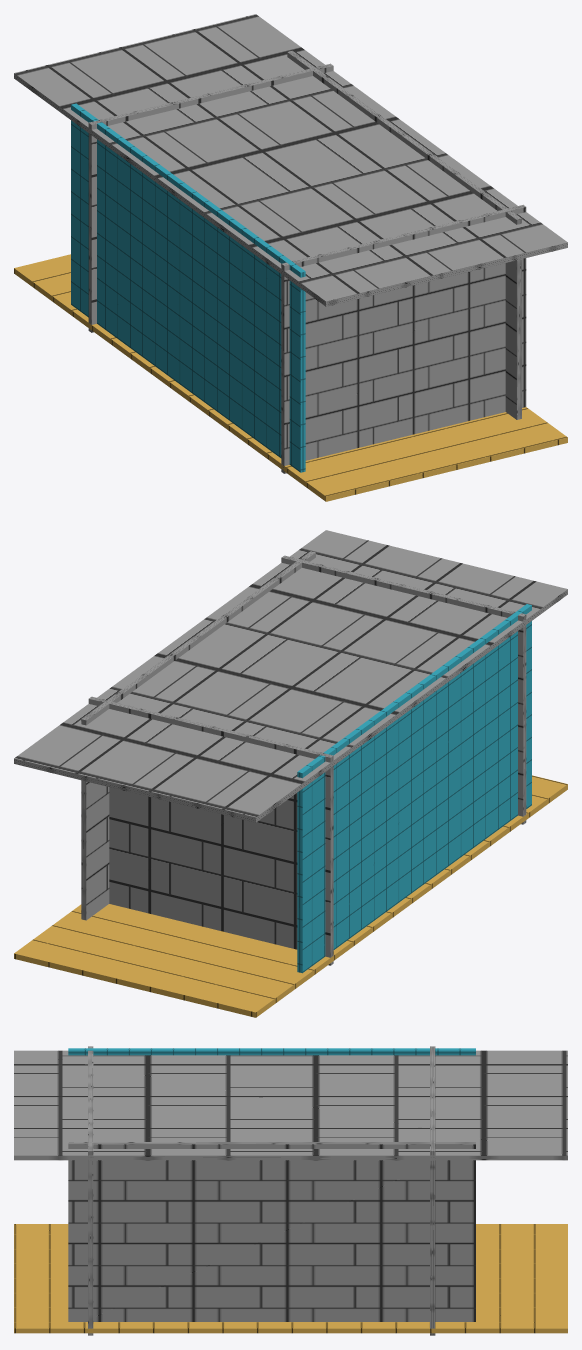
3 renders of one model, top to bottom at view 1: azimuth 30°, elevation 25°; view 2: azimuth 150°, elevation 25°; view 3: azimuth 270°, elevation 25°, orthographic. The views are drawn at different scales.
Visible parts, largest first — view 1: 立方体.009, 立方体.008, 立方体.006, 立方体.005, 立方体.010, 立方体.007; view 2: 立方体.009, 立方体.008, 立方体.007, 立方体.005, 立方体.010, 立方体.006; view 3: 立方体.010, 立方体.009, 立方体.005, 立方体.008, 立方体.007, 立方体.006.
Boxes of the visible parts, left/top/right/bottom form: 立方体.009: left=14, top=14, right=567, bottom=306; 立方体.008: left=71, top=103, right=305, bottom=472; 立方体.006: left=281, top=204, right=526, bottom=473; 立方体.005: left=14, top=254, right=567, bottom=501; 立方体.010: left=287, top=50, right=521, bottom=419; 立方体.007: left=88, top=63, right=333, bottom=332; 立方体.009: left=14, top=530, right=567, bottom=822; 立方体.008: left=297, top=604, right=531, bottom=973; 立方体.007: left=88, top=696, right=333, bottom=965; 立方体.005: left=14, top=775, right=567, bottom=1017; 立方体.010: left=81, top=551, right=315, bottom=920; 立方体.006: left=281, top=555, right=526, bottom=824; 立方体.010: left=68, top=1142, right=475, bottom=1321; 立方体.009: left=14, top=1050, right=567, bottom=1160; 立方体.005: left=14, top=1224, right=567, bottom=1333; 立方体.008: left=68, top=1048, right=475, bottom=1055; 立方体.007: left=430, top=1046, right=435, bottom=1335; 立方体.006: left=88, top=1046, right=93, bottom=1335.
Bounding box in the file's own units: 9383 × 7713 × 20960.
